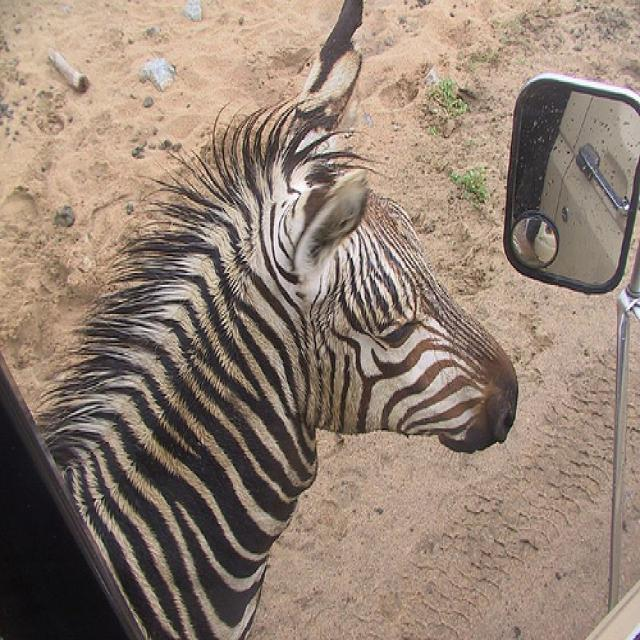Vehicle: (500, 72, 640, 603)
